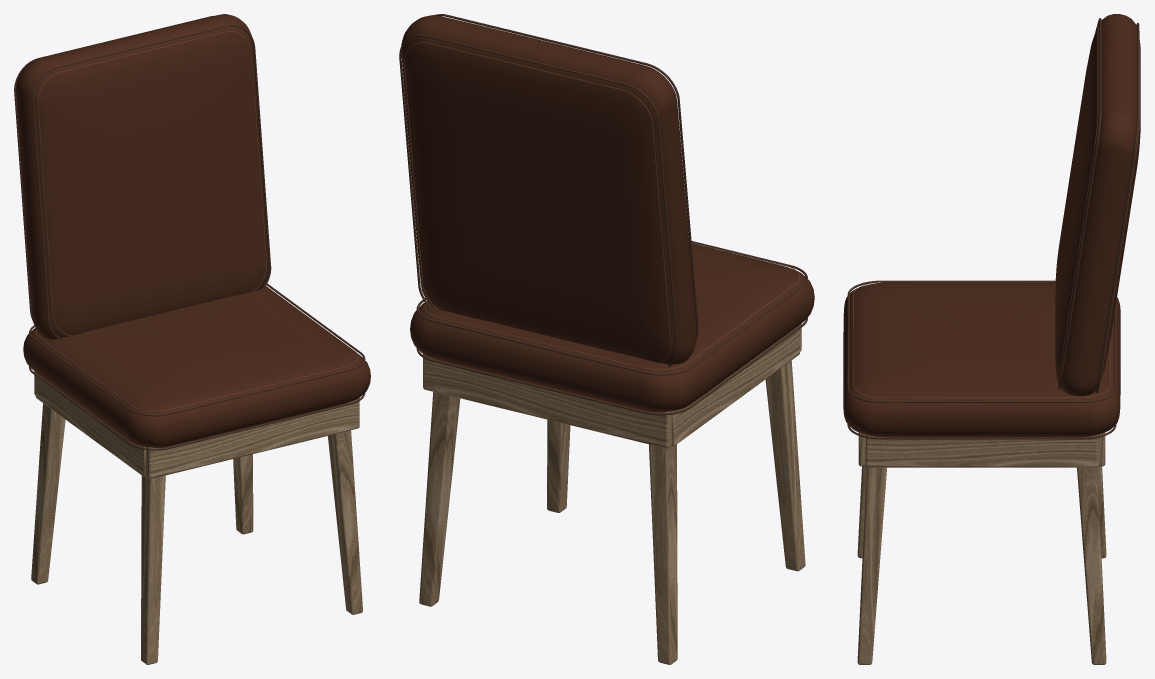
File: poker-chair.glb
The picture shows the model from 3 angles, left to right: view 1: azimuth 30°, elevation 25°; view 2: azimuth 150°, elevation 25°; view 3: azimuth 270°, elevation 25°; orthographic projection. The views are drawn at different scales.
Parts seen in each view (by area): view 1: poker-chair - Poker supple chocolate leather, poker-chair - Poker satin walnut joinery, poker-chair - Poker leather edge welt, poker-chair - Poker warm saddle stitching; view 2: poker-chair - Poker supple chocolate leather, poker-chair - Poker satin walnut joinery, poker-chair - Poker leather edge welt, poker-chair - Poker warm saddle stitching; view 3: poker-chair - Poker supple chocolate leather, poker-chair - Poker satin walnut joinery, poker-chair - Poker leather edge welt, poker-chair - Poker warm saddle stitching.
Boxes of the visible parts, <box> form: poker-chair - Poker supple chocolate leather: <box>16,14,370,447</box>; poker-chair - Poker satin walnut joinery: <box>31,371,362,664</box>; poker-chair - Poker leather edge welt: <box>14,16,365,450</box>; poker-chair - Poker warm saddle stitching: <box>36,31,358,448</box>; poker-chair - Poker supple chocolate leather: <box>401,15,814,412</box>; poker-chair - Poker satin walnut joinery: <box>419,324,805,664</box>; poker-chair - Poker leather edge welt: <box>399,14,807,415</box>; poker-chair - Poker warm saddle stitching: <box>404,42,799,412</box>; poker-chair - Poker supple chocolate leather: <box>843,14,1140,437</box>; poker-chair - Poker satin walnut joinery: <box>857,432,1106,664</box>; poker-chair - Poker leather edge welt: <box>847,18,1139,439</box>; poker-chair - Poker warm saddle stitching: <box>853,25,1139,436</box>.
Size of the model in its own units: 0.4891 by 0.9974 by 0.4921.
Materials: 4 (2 with a texture image).
